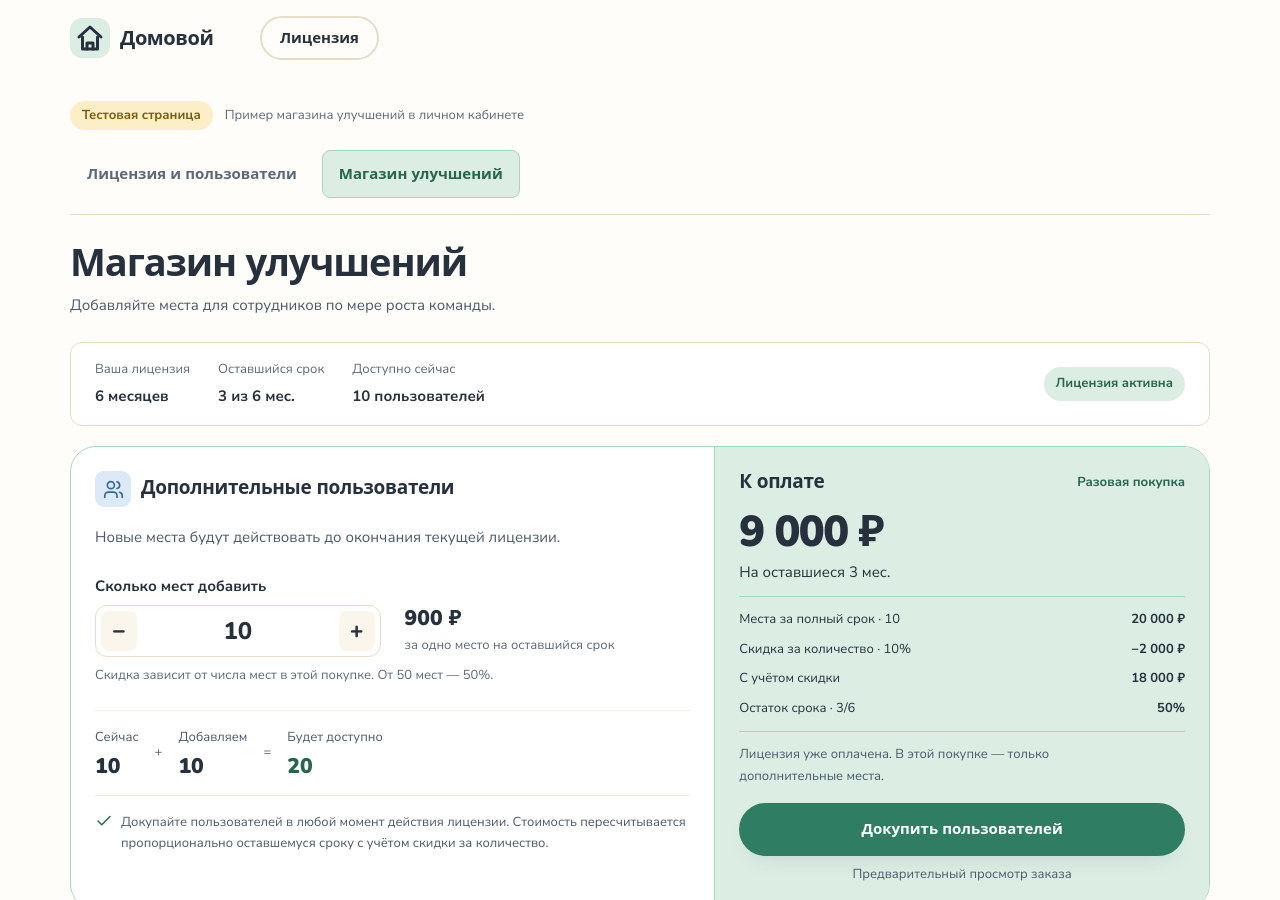
Scenario: Докупка пользователей в макете магазина › не даёт оформить пустую покупку и покупку при истёкшей лицензии
Clear the number field labelled "Сколько мест добавить" at {"x": 238, "y": 631}, box [137,611,339,651]
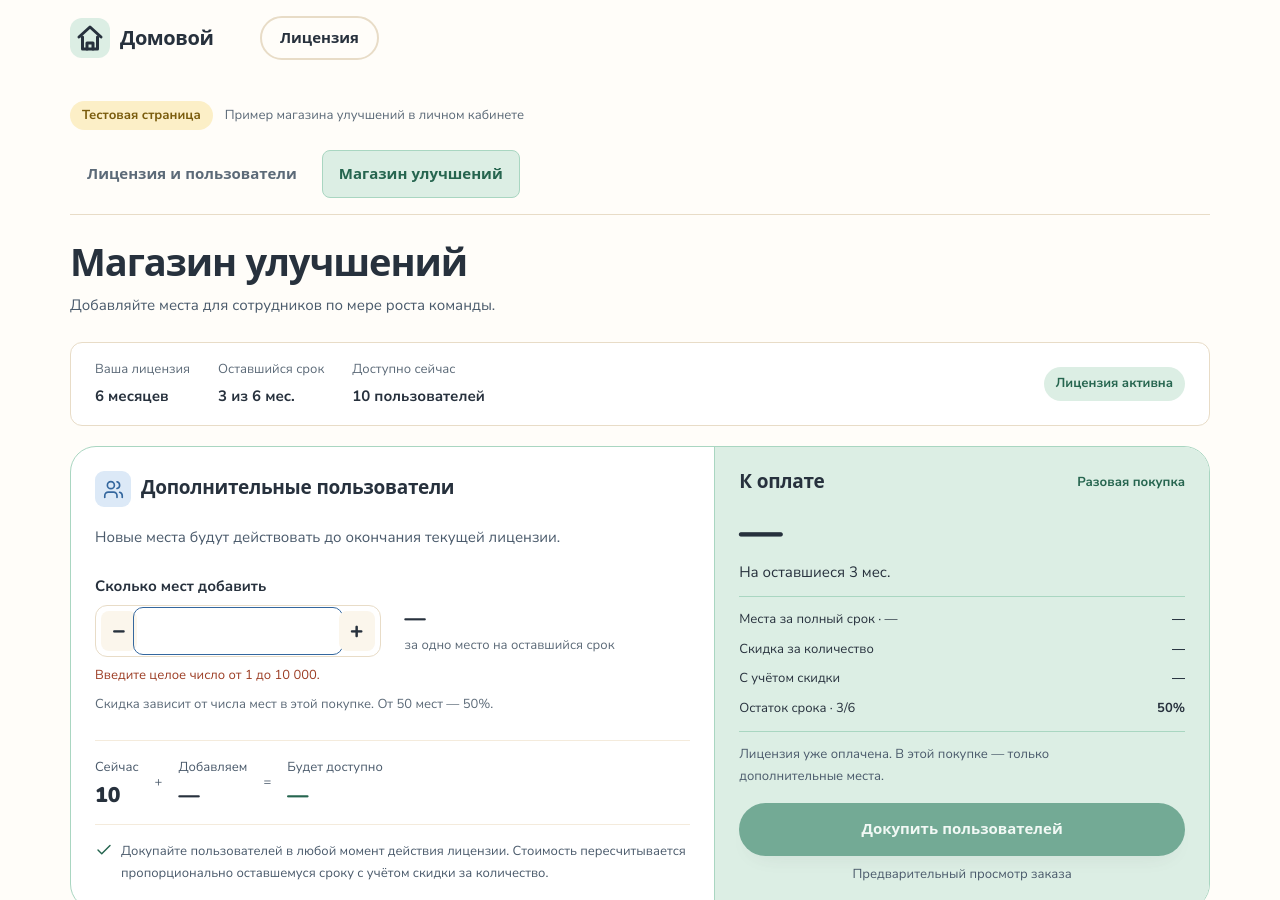
Check: the button "Докупить пользователей" is disabled, box [739,803,1185,856]
Check: the message shows "Введите целое число", box [95,666,320,684]
Type "1" into the number field labelled "Сколько мест добавить" at {"x": 238, "y": 631}, box [137,611,339,651]
(page scrolled)
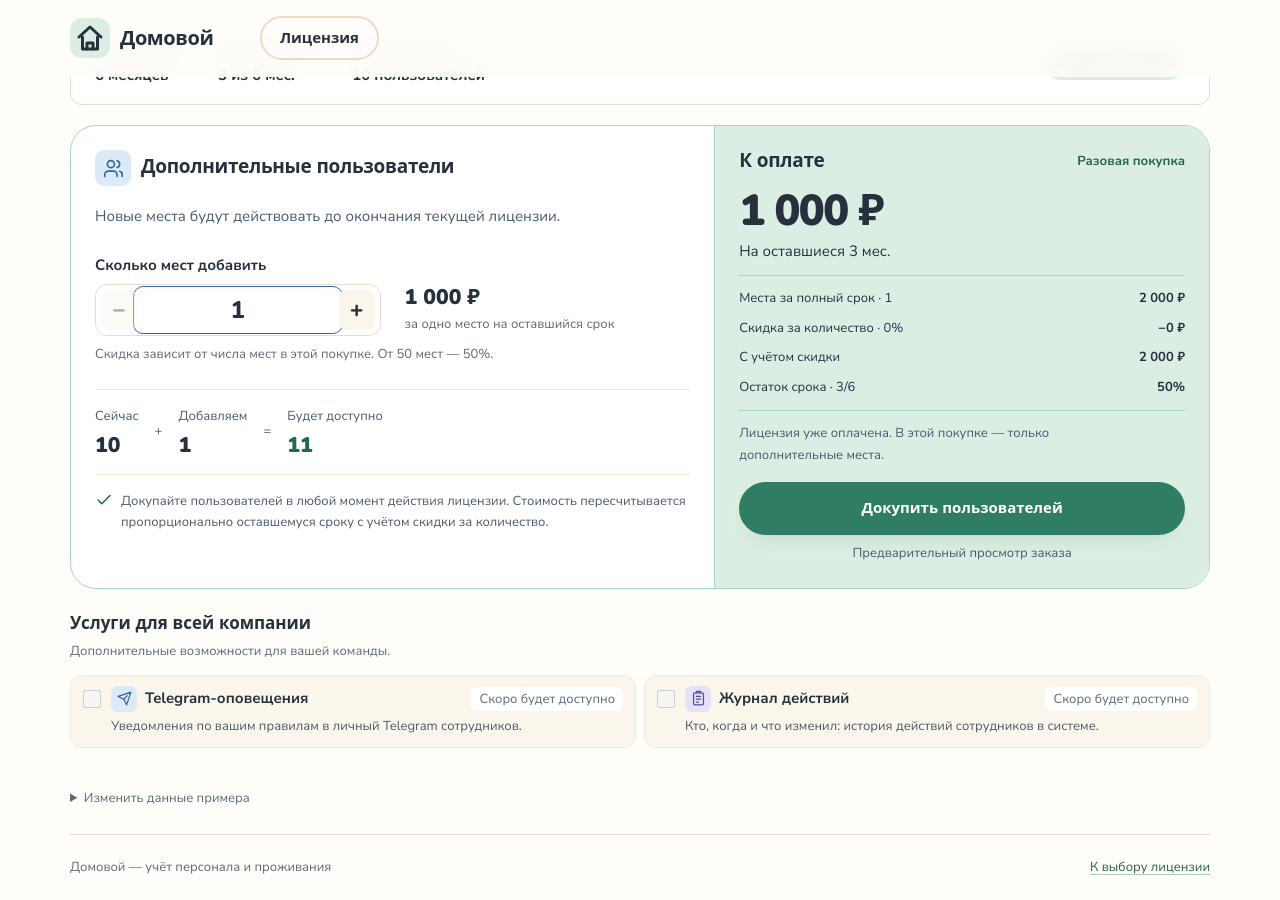
Click the heading "Изменить данные примера" at {"x": 160, "y": 799}, box [70,788,250,810]
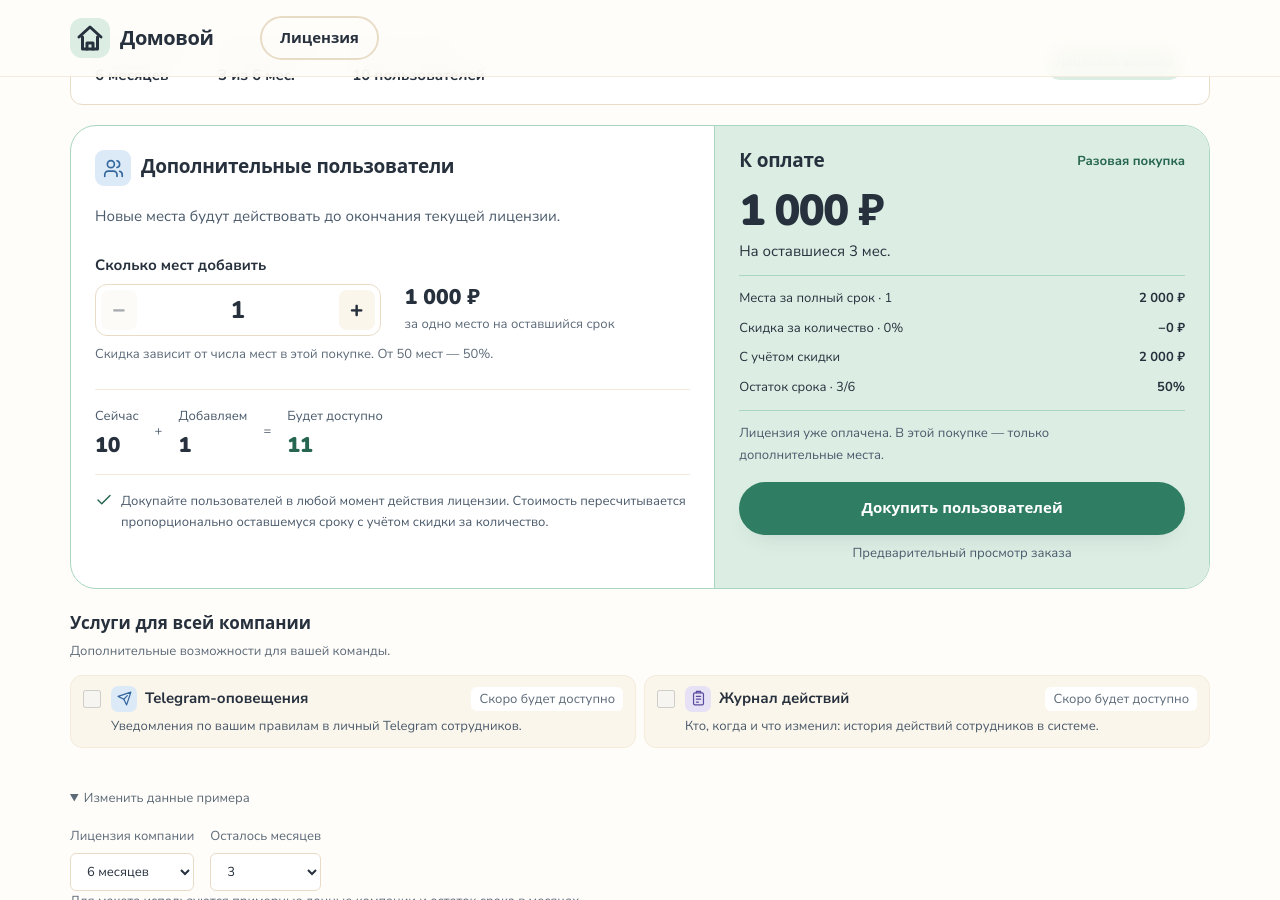
Select "0" in the dropdown labelled "Осталось месяцев" at {"x": 266, "y": 872}, box [210,853,321,891]
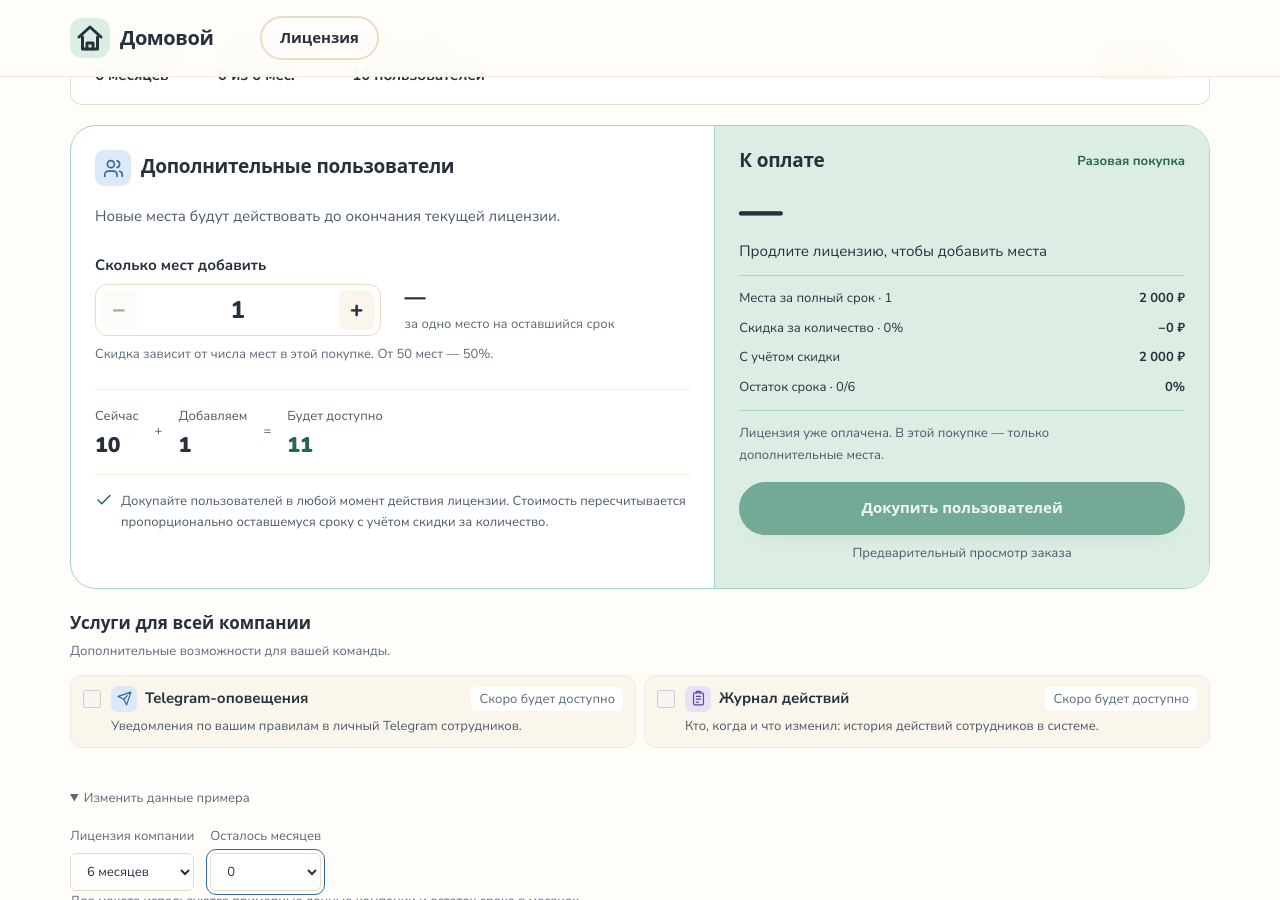
Check: the button "Докупить пользователей" is disabled, box [739,482,1185,535]
Check: the text "Срок истёк" is shown, box [1091,46,1185,80]
